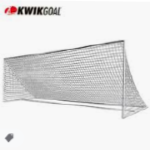goals: (1, 39, 150, 122)
